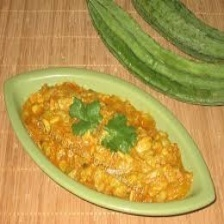sabzi: (16, 84, 192, 203)
